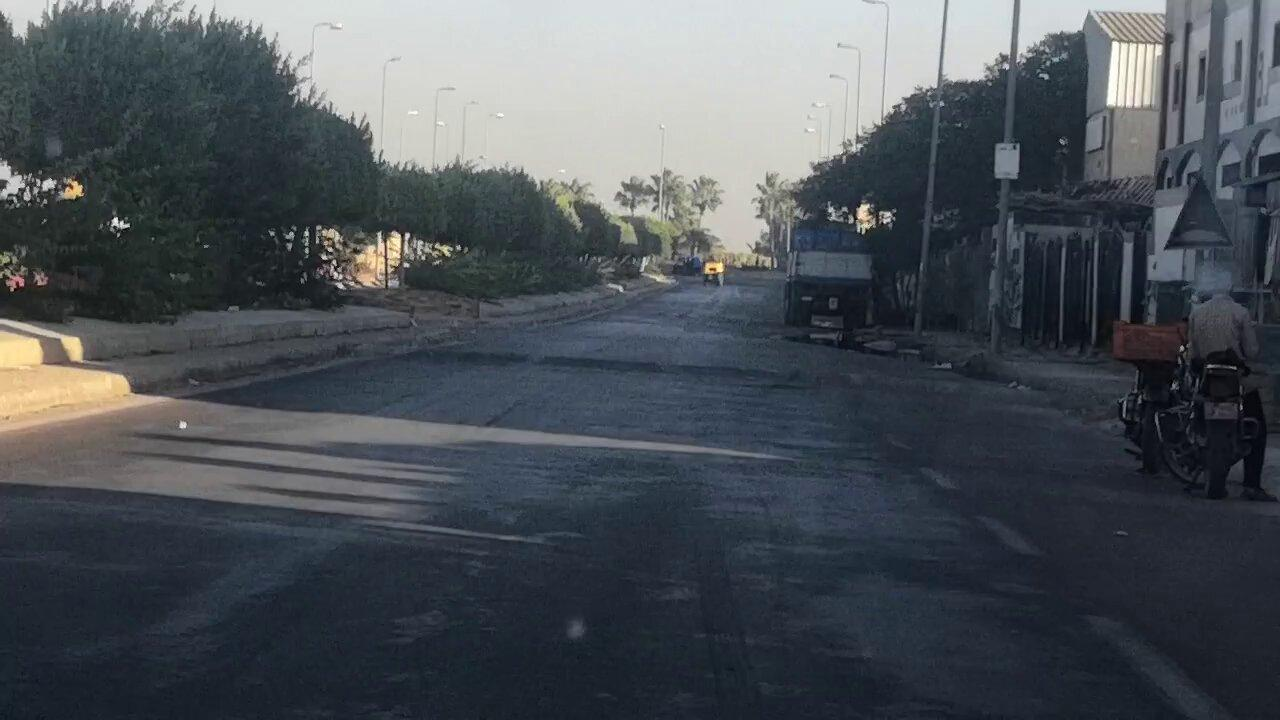Bump: (403, 343, 1058, 412)
